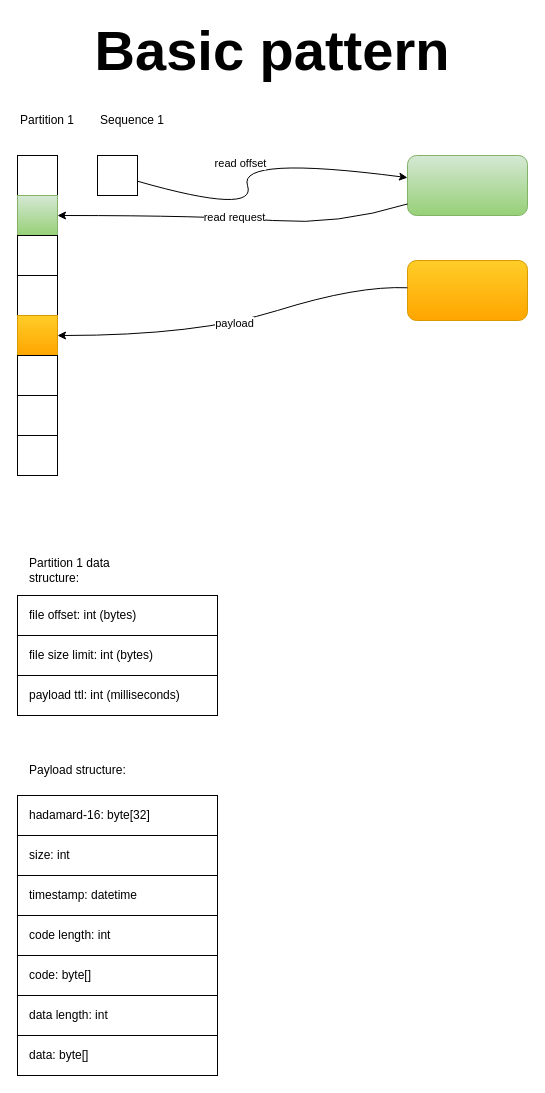
Some shapes in this 545 by 1093 pixel diagram are drawn without their labels. Each missing label, with the centre of its shape:
Consumer 1: the point at 467,185
Producer 1: the point at 467,290
